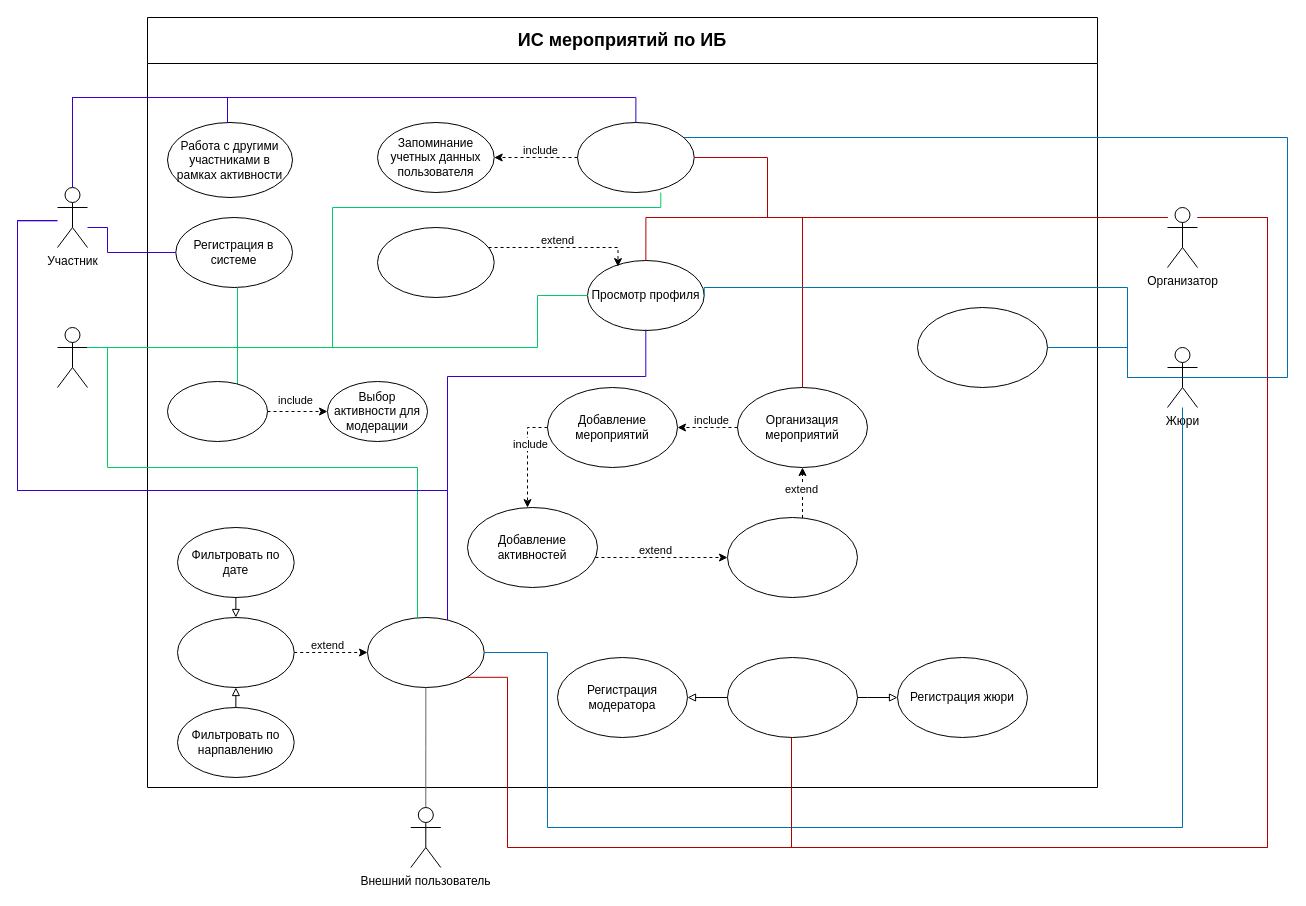
Image size: 1306x906. Some labels were removed from this diagram. The centre of each missing label's shape, as x and y in pixels:
Авторизация в системе: point 635,157
Модератор: point 72,357
Просмотр информации об активностях в рамках мероприятия: point 982,347
Просмотр мероприятий: point 425,652
Регистрация на мероприятие: point 217,411
Регистрация сопровождающих мероприятие: point 792,697
Редактирование данных мероприятия: point 792,557
Редактирование профиля: point 435,262
Фильтрация: point 235,652
